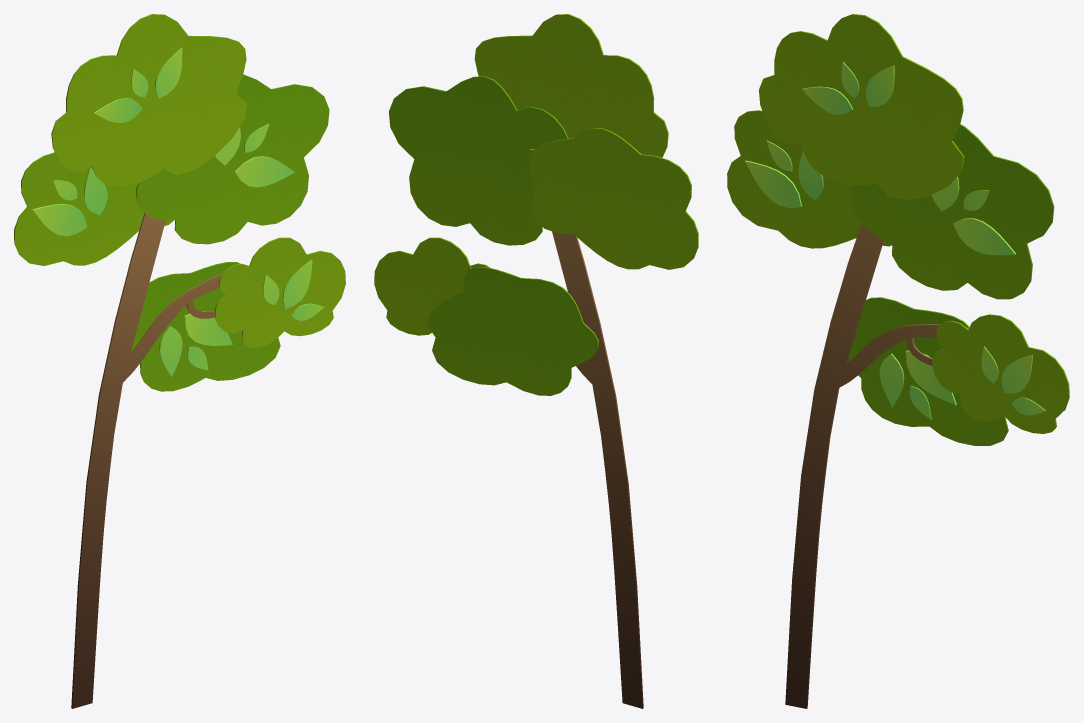
Rendered from obj-boom-2.FBX.
3 views of the same model, side by side, from view 1: azimuth 30°, elevation 25°; view 2: azimuth 150°, elevation 25°; view 3: azimuth 330°, elevation 25° (orthographic). The views are drawn at different scales.
Parts seen in each view (by area): view 1: boom 2; view 2: boom 2; view 3: boom 2.
Boxes of the visible parts, x1,y1,x2,y2 form: boom 2: [14, 14, 345, 708]; boom 2: [374, 14, 698, 708]; boom 2: [727, 14, 1069, 708].
Size of the model in its own units: 9.71 by 19.14 by 0.3116.
Materials: 1 (1 with a texture image).
